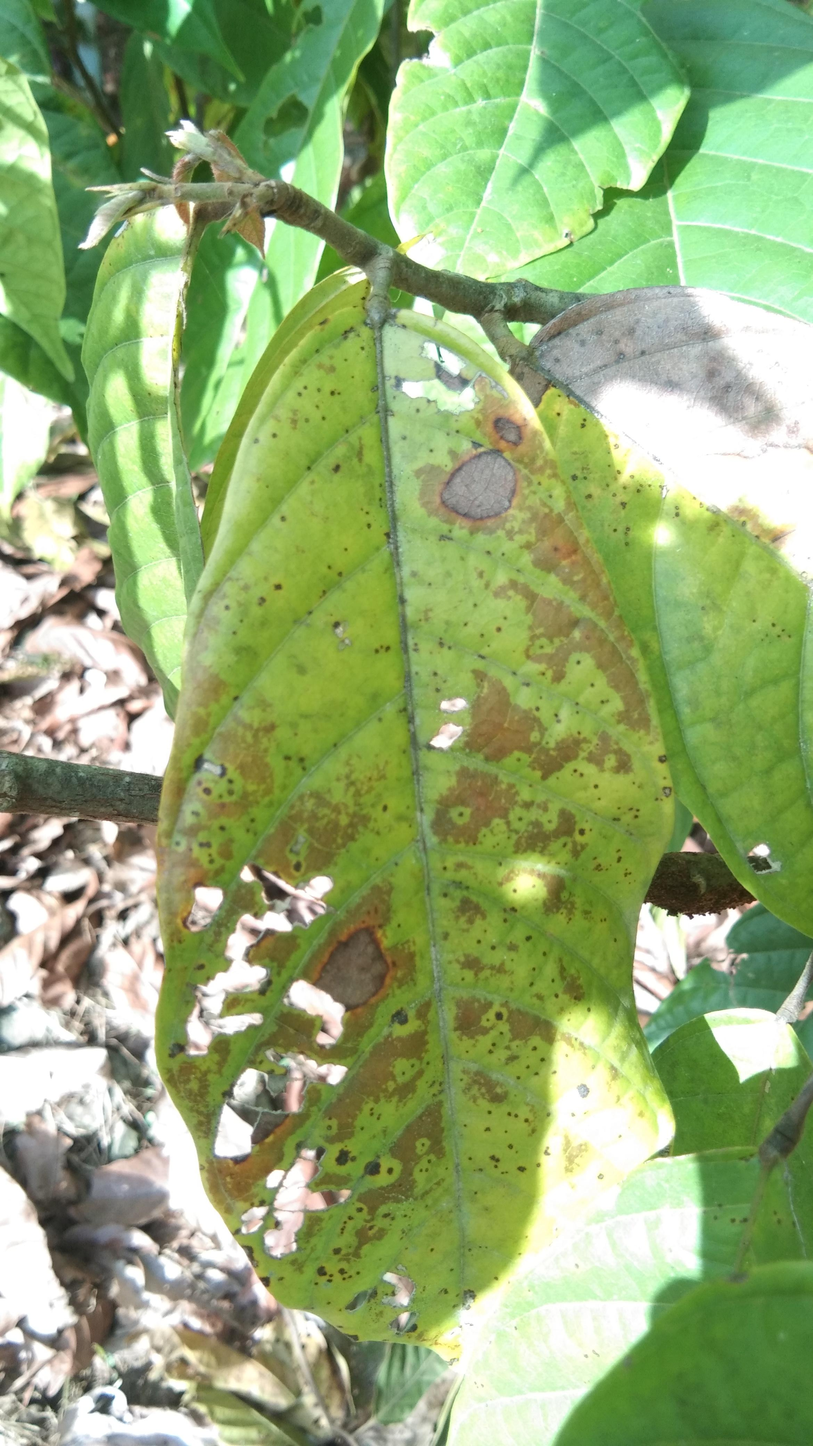deficiencia_potasio: (149, 241, 703, 1358)
